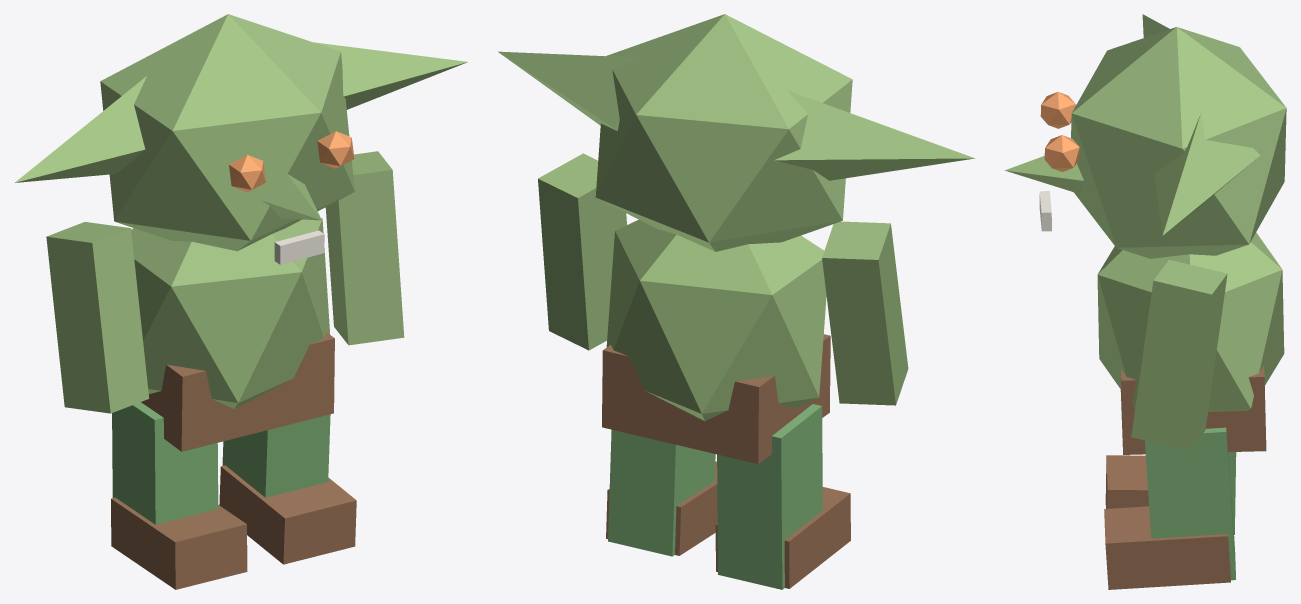
Rendered from npcpose_goblin_idle_03.glb.
3 views of the same model, side by side, from view 1: azimuth 30°, elevation 25°; view 2: azimuth 150°, elevation 25°; view 3: azimuth 270°, elevation 25° (orthographic). The views are drawn at different scales.
Parts seen in each view (by area): view 1: npcpose; view 2: npcpose; view 3: npcpose.
Part boxes in pixels (left/top/right/bottom): npcpose: left=15, top=14, right=467, bottom=589; npcpose: left=498, top=14, right=974, bottom=589; npcpose: left=1004, top=14, right=1286, bottom=589.
Bounding box in the file's own units: 1.03 × 1.12 × 0.5511.
